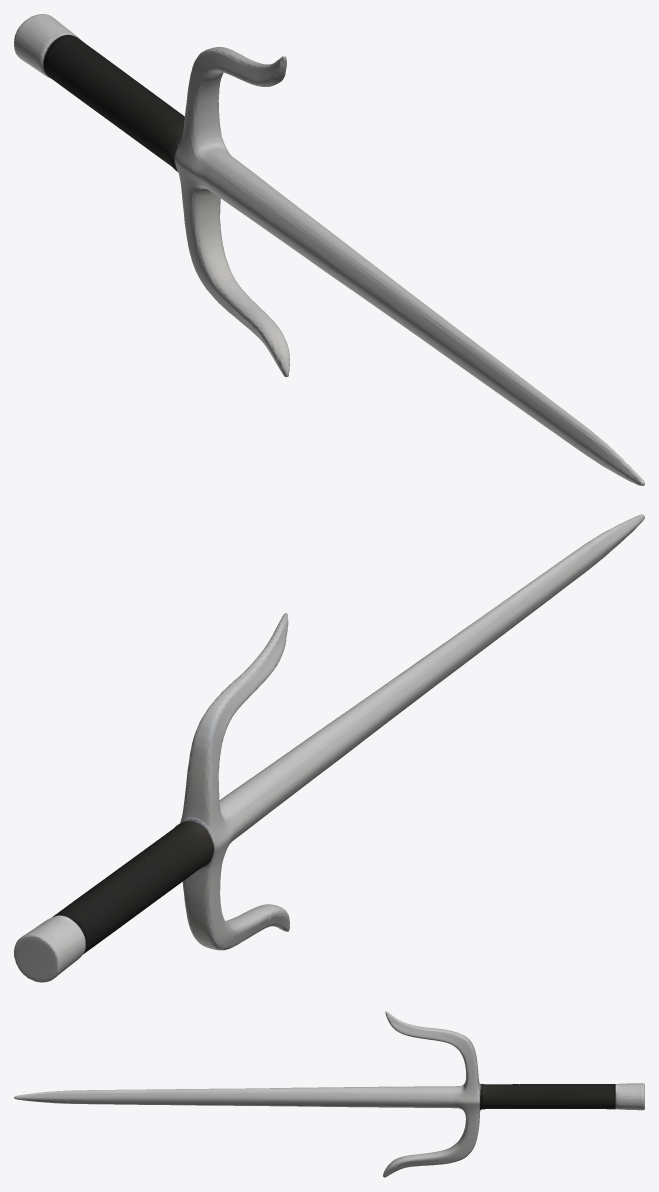
File: dagger+3d+model.glb
The picture shows the model from 3 angles, top to bottom: view 1: azimuth 30°, elevation 25°; view 2: azimuth 150°, elevation 25°; view 3: azimuth 270°, elevation 25°; orthographic projection. The views are drawn at different scales.
Parts seen in each view (by area): view 1: tripo_node_387dd21d-302b-4293-a245-fb9dd8b33a1a; view 2: tripo_node_387dd21d-302b-4293-a245-fb9dd8b33a1a; view 3: tripo_node_387dd21d-302b-4293-a245-fb9dd8b33a1a.
Part boxes in pixels (x1=…): tripo_node_387dd21d-302b-4293-a245-fb9dd8b33a1a: x1=14, y1=14, x2=644, y2=485; tripo_node_387dd21d-302b-4293-a245-fb9dd8b33a1a: x1=14, y1=514, x2=644, y2=982; tripo_node_387dd21d-302b-4293-a245-fb9dd8b33a1a: x1=14, y1=1011, x2=644, y2=1177.
Size of the model in its own units: 0.0441 by 0.2899 by 1.
Materials: 1 (1 with a texture image).
